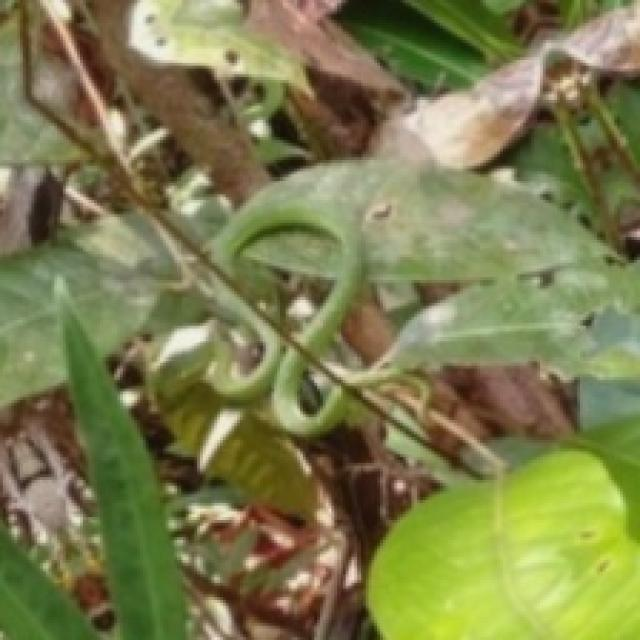north ph temple pitviper: (211, 180, 403, 434), (414, 263, 491, 277)
